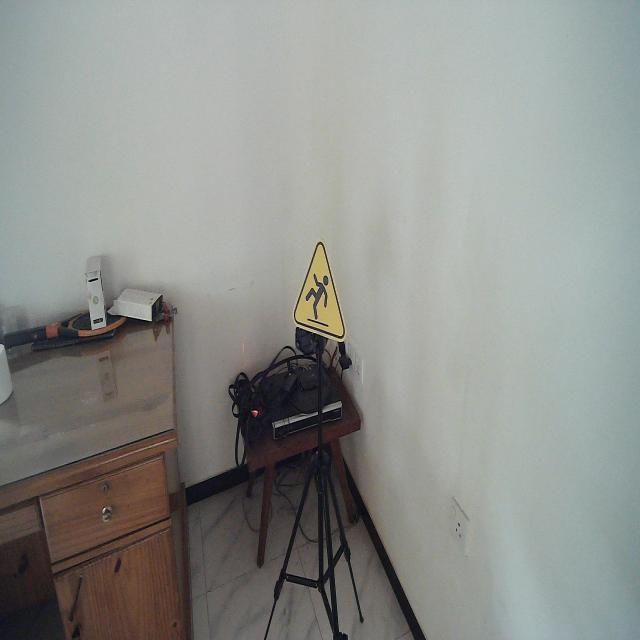slippery_sign: (291, 238, 348, 344)
